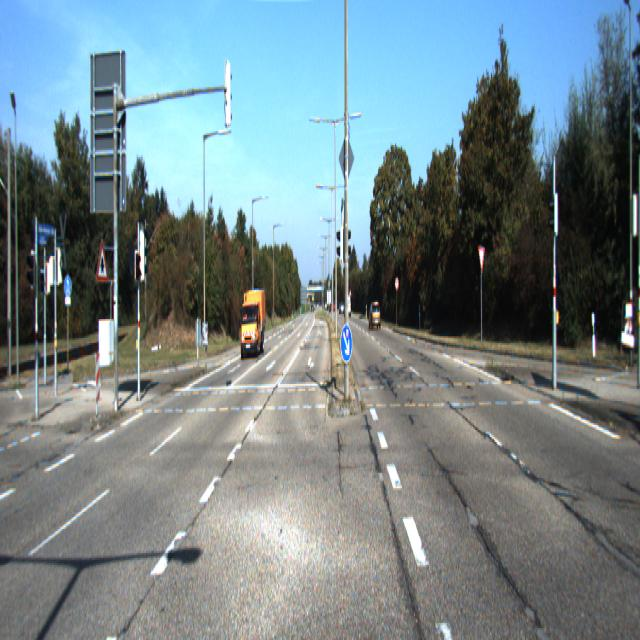Car: (371, 300, 381, 329)
DontCare: (309, 285, 353, 327)
Van: (237, 286, 266, 360)
